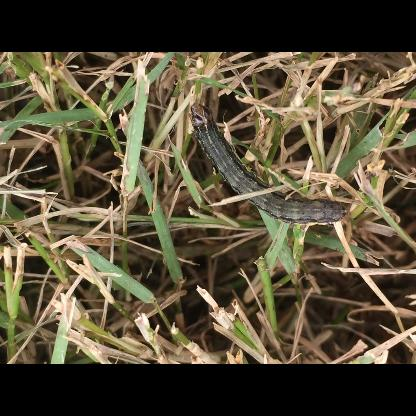Fall Armyworm Larvae: (184, 99, 354, 229)
